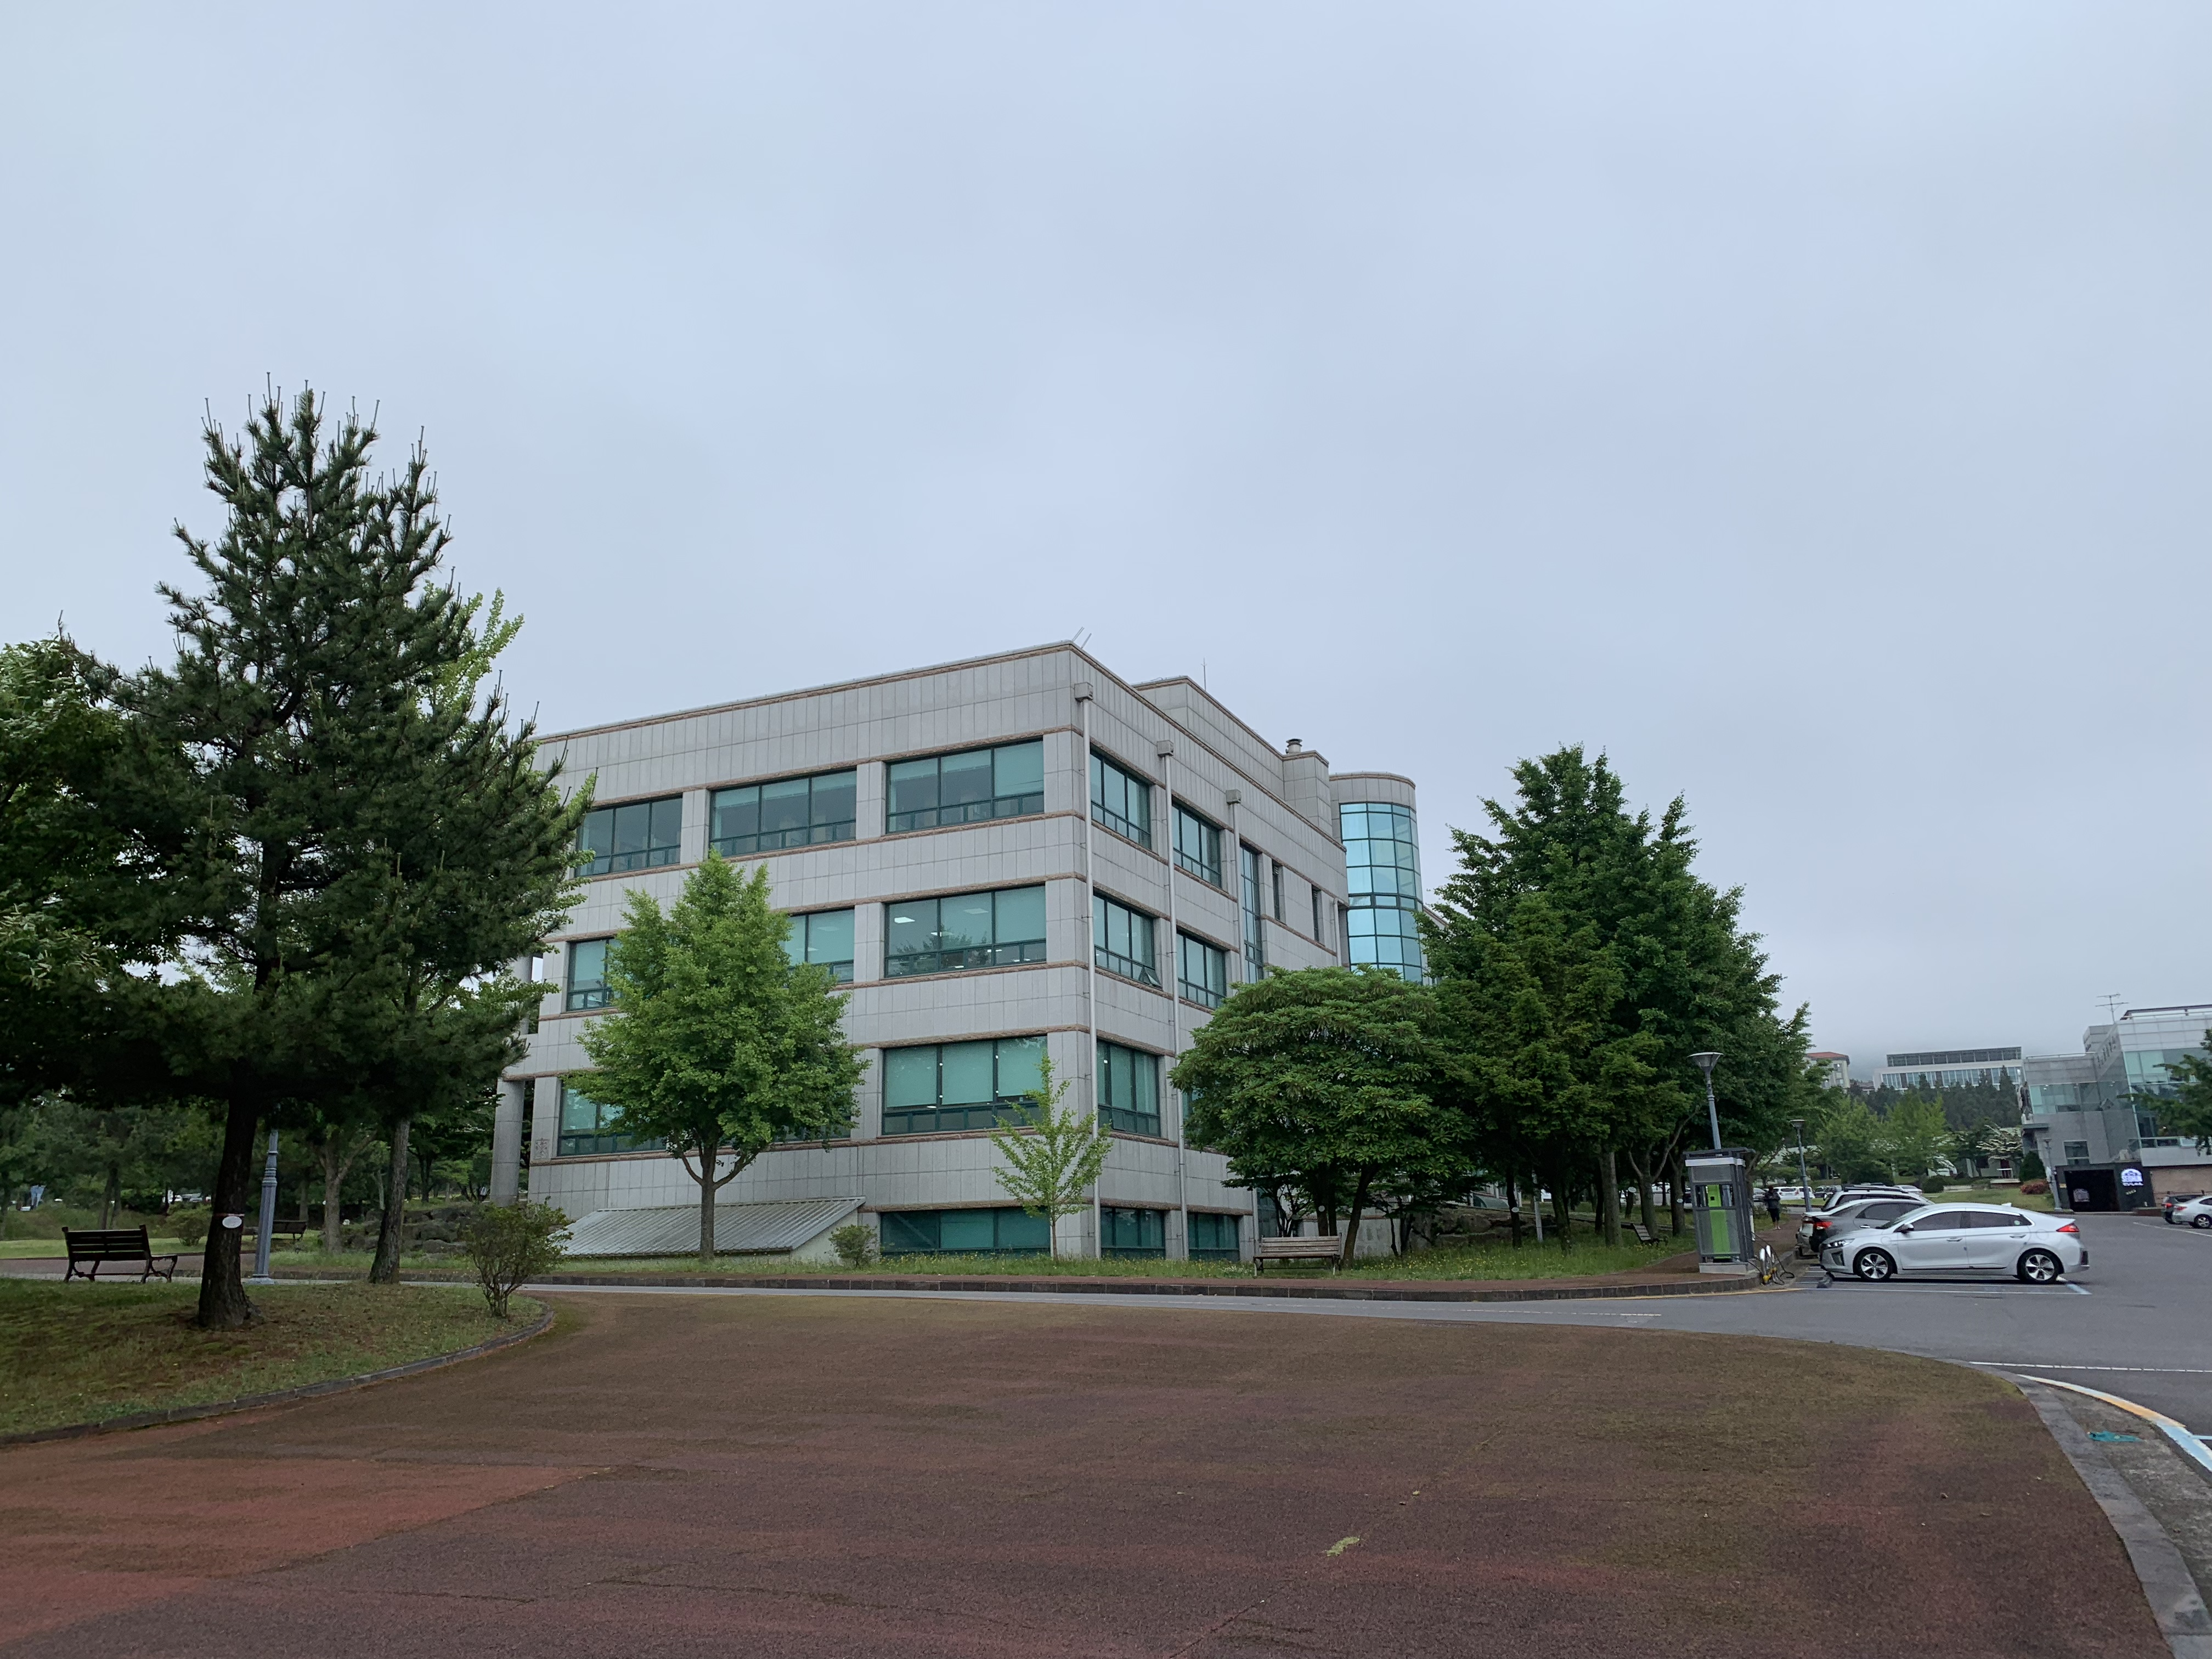Global House: (2026, 988, 2212, 1223)
Second Library: (510, 650, 1468, 1321)
